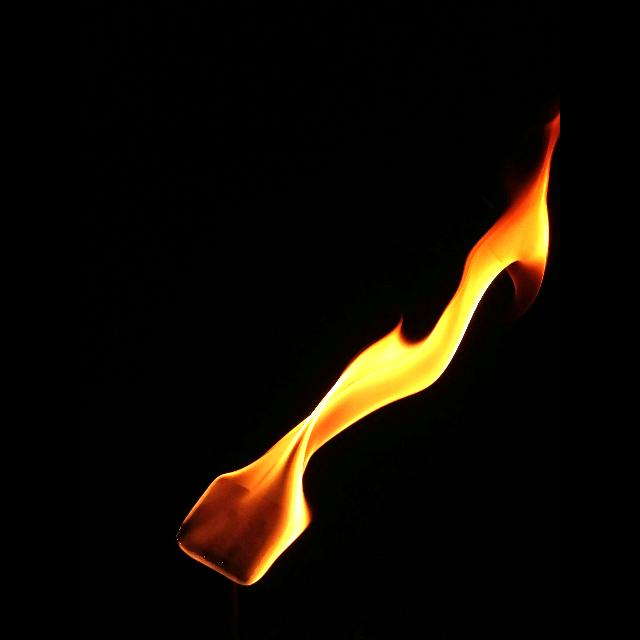fire: (178, 111, 560, 585), (212, 88, 220, 98)
